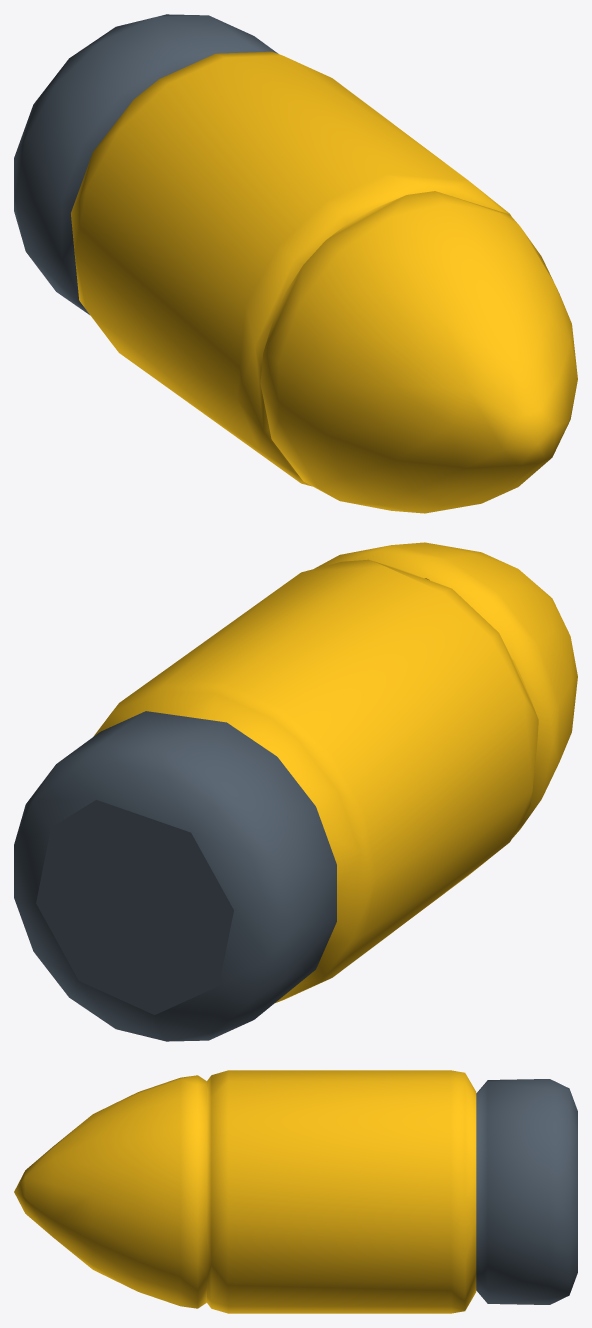
File: normal.glb
3 renders of one model, top to bottom at view 1: azimuth 30°, elevation 25°; view 2: azimuth 150°, elevation 25°; view 3: azimuth 270°, elevation 25°, orthographic. The views are drawn at different scales.
Visible parts, largest first — view 1: Projectile; view 2: Projectile; view 3: Projectile.
Boxes of the visible parts, bbox=[...] form: Projectile: bbox=[14, 14, 577, 513]; Projectile: bbox=[14, 542, 577, 1041]; Projectile: bbox=[14, 1070, 577, 1313].
Size of the model in its own units: 0.095 by 0.095 by 0.22.
